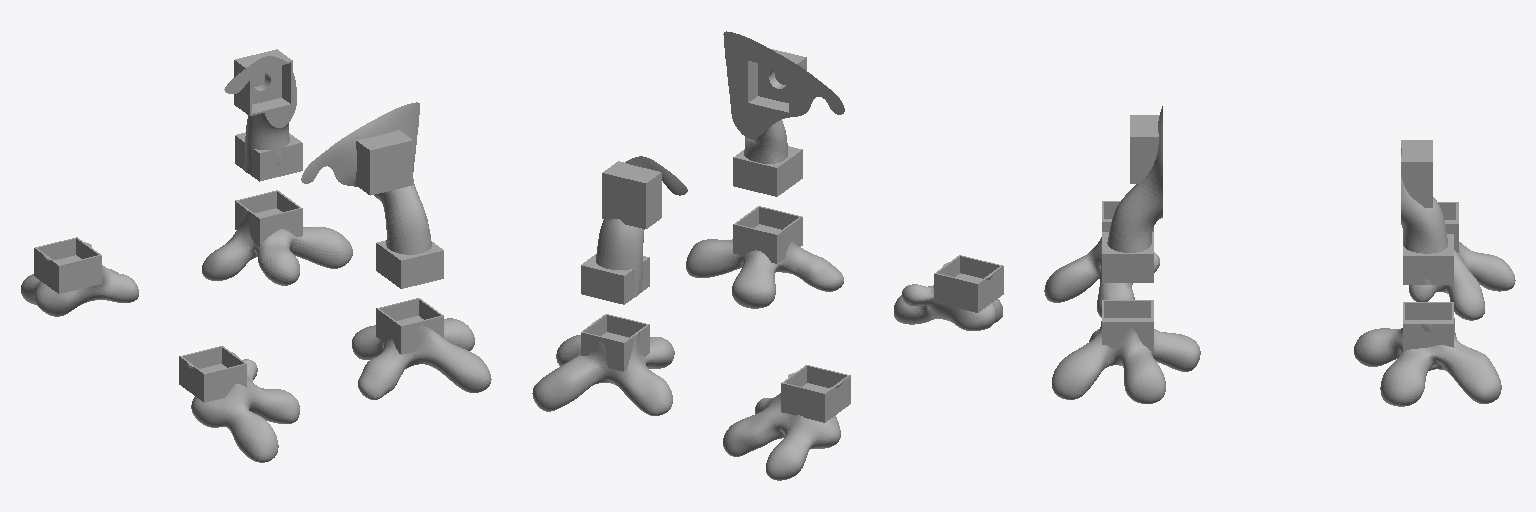
URDF robot description (FrogBot2_top-FrogBot2-z-0_bottom-FrogBot2-z-0):
<?xml version="1.0" ?>
<robot name="FrogBot2_top-FrogBot2-z-0_bottom-FrogBot2-z-0">

<material name="pla_5_percent_infill">
  <color rgba="0.700 0.700 0.700 1.000"/>
</material>

<link name="base_link">
  <inertial>
    <origin xyz="0 0 0" rpy="0 0 0"/>
    <mass value="1.3195545643272064"/>
    <inertia ixx="0.004661128976538509" iyy="0.011084956581942616" izz="0.010434027311362799" ixy="0.00012367021510998182" iyz="8.103854715456007e-05" ixz="-0.0024599087459031867"/>
  </inertial>
  <visual>
    <origin xyz="0 0 0" rpy="0 0 0"/>
    <geometry>
      <mesh filename="simple_meshes/base_link.stl" scale="0.001 0.001 0.001"/>
    </geometry>
    <material name="pla_5_percent_infill"/>
  </visual>
  <collision>
    <origin xyz="0 0 0" rpy="0 0 0"/>
    <geometry>
      <mesh filename="simple_meshes/base_link.stl" scale="0.001 0.001 0.001"/>
    </geometry>
  </collision>
</link>

<link name="body_1_0_1">
  <inertial>
    <origin xyz="-0.053395 -0.09218 -0.023663" rpy="0 0 0"/>
    <mass value="0.04799444423922557"/>
    <inertia ixx="5.2803174145342057e-05" iyy="5.619794103627328e-05" izz="1.676192602884552e-05" ixy="-3.034819435472993e-07" iyz="3.2780100236989845e-06" ixz="6.190608707399671e-06"/>
  </inertial>
  <visual>
    <origin xyz="-0.053395 -0.09218 -0.023663" rpy="0 0 0"/>
    <geometry>
      <mesh filename="simple_meshes/body_1_0_1.stl" scale="0.001 0.001 0.001"/>
    </geometry>
    <material name="pla_5_percent_infill"/>
  </visual>
  <collision>
    <origin xyz="-0.053395 -0.09218 -0.023663" rpy="0 0 0"/>
    <geometry>
      <mesh filename="simple_meshes/body_1_0_1.stl" scale="0.001 0.001 0.001"/>
    </geometry>
  </collision>
</link>

<link name="body_1_1_1">
  <inertial>
    <origin xyz="0.095032 -0.09218 0.005345" rpy="0 0 0"/>
    <mass value="0.08630944673625074"/>
    <inertia ixx="5.514327864541047e-05" iyy="0.00011598762227759589" izz="9.208938151368919e-05" ixy="5.134815311549348e-06" iyz="5.082767921594155e-06" ixz="-3.5080771214462513e-05"/>
  </inertial>
  <visual>
    <origin xyz="0.095032 -0.09218 0.005345" rpy="0 0 0"/>
    <geometry>
      <mesh filename="simple_meshes/body_1_1_1.stl" scale="0.001 0.001 0.001"/>
    </geometry>
    <material name="pla_5_percent_infill"/>
  </visual>
  <collision>
    <origin xyz="0.095032 -0.09218 0.005345" rpy="0 0 0"/>
    <geometry>
      <mesh filename="simple_meshes/body_1_1_1.stl" scale="0.001 0.001 0.001"/>
    </geometry>
  </collision>
</link>

<link name="body_1_2_1">
  <inertial>
    <origin xyz="-0.041549 0.09218 -0.043945" rpy="0 0 0"/>
    <mass value="0.05834434694089081"/>
    <inertia ixx="9.78296082568518e-05" iyy="0.00010293905077679878" izz="2.7162727684615752e-05" ixy="1.5896575636124757e-06" iyz="-1.4489362938955192e-05" ixz="1.502671672497186e-05"/>
  </inertial>
  <visual>
    <origin xyz="-0.041549 0.09218 -0.043945" rpy="0 0 0"/>
    <geometry>
      <mesh filename="simple_meshes/body_1_2_1.stl" scale="0.001 0.001 0.001"/>
    </geometry>
    <material name="pla_5_percent_infill"/>
  </visual>
  <collision>
    <origin xyz="-0.041549 0.09218 -0.043945" rpy="0 0 0"/>
    <geometry>
      <mesh filename="simple_meshes/body_1_2_1.stl" scale="0.001 0.001 0.001"/>
    </geometry>
  </collision>
</link>

<link name="body_1_3_1">
  <inertial>
    <origin xyz="0.087142 0.09218 -0.003397" rpy="0 0 0"/>
    <mass value="0.09057289863102819"/>
    <inertia ixx="5.639692942870848e-05" iyy="0.00011345600790085212" izz="8.959052372041736e-05" ixy="-5.7168572350557376e-06" iyz="-3.666766072718975e-06" ixz="-3.326508076959976e-05"/>
  </inertial>
  <visual>
    <origin xyz="0.087142 0.09218 -0.003397" rpy="0 0 0"/>
    <geometry>
      <mesh filename="simple_meshes/body_1_3_1.stl" scale="0.001 0.001 0.001"/>
    </geometry>
    <material name="pla_5_percent_infill"/>
  </visual>
  <collision>
    <origin xyz="0.087142 0.09218 -0.003397" rpy="0 0 0"/>
    <geometry>
      <mesh filename="simple_meshes/body_1_3_1.stl" scale="0.001 0.001 0.001"/>
    </geometry>
  </collision>
</link>

<link name="body_2_0_1">
  <inertial>
    <origin xyz="-0.065654 -0.138685 0.094558" rpy="0 0 0"/>
    <mass value="0.09527860020332019"/>
    <inertia ixx="0.0001029198834668647" iyy="0.00011442436296553015" izz="0.000186007311677915" ixy="-1.0464852799072096e-05" iyz="5.479148406796475e-06" ixz="3.7826570893231912e-06"/>
  </inertial>
  <visual>
    <origin xyz="-0.065654 -0.138685 0.094558" rpy="0 0 0"/>
    <geometry>
      <mesh filename="simple_meshes/body_2_0_1.stl" scale="0.001 0.001 0.001"/>
    </geometry>
    <material name="pla_5_percent_infill"/>
  </visual>
  <collision>
    <origin xyz="-0.065654 -0.138685 0.094558" rpy="0 0 0"/>
    <geometry>
      <mesh filename="simple_meshes/body_2_0_1.stl" scale="0.001 0.001 0.001"/>
    </geometry>
  </collision>
</link>

<link name="body_2_1_1">
  <inertial>
    <origin xyz="0.15751 -0.142533 0.094558" rpy="0 0 0"/>
    <mass value="0.07748939377067222"/>
    <inertia ixx="5.797035446383075e-05" iyy="7.381370771172499e-05" izz="9.274986450515978e-05" ixy="2.704018428781145e-07" iyz="1.5240521847553149e-05" ixz="8.529957424013726e-06"/>
  </inertial>
  <visual>
    <origin xyz="0.15751 -0.142533 0.094558" rpy="0 0 0"/>
    <geometry>
      <mesh filename="simple_meshes/body_2_1_1.stl" scale="0.001 0.001 0.001"/>
    </geometry>
    <material name="pla_5_percent_infill"/>
  </visual>
  <collision>
    <origin xyz="0.15751 -0.142533 0.094558" rpy="0 0 0"/>
    <geometry>
      <mesh filename="simple_meshes/body_2_1_1.stl" scale="0.001 0.001 0.001"/>
    </geometry>
  </collision>
</link>

<link name="body_2_2_1">
  <inertial>
    <origin xyz="-0.061161 0.144934 0.094558" rpy="0 0 0"/>
    <mass value="0.09306893628445996"/>
    <inertia ixx="0.0001033425156258547" iyy="0.00011173851979767767" izz="0.00018617734012826978" ixy="1.1591404523521591e-05" iyz="-2.7779278013602936e-06" ixz="1.2372819927100685e-06"/>
  </inertial>
  <visual>
    <origin xyz="-0.061161 0.144934 0.094558" rpy="0 0 0"/>
    <geometry>
      <mesh filename="simple_meshes/body_2_2_1.stl" scale="0.001 0.001 0.001"/>
    </geometry>
    <material name="pla_5_percent_infill"/>
  </visual>
  <collision>
    <origin xyz="-0.061161 0.144934 0.094558" rpy="0 0 0"/>
    <geometry>
      <mesh filename="simple_meshes/body_2_2_1.stl" scale="0.001 0.001 0.001"/>
    </geometry>
  </collision>
</link>

<link name="body_2_3_1">
  <inertial>
    <origin xyz="0.160089 0.144768 0.094558" rpy="0 0 0"/>
    <mass value="0.0733493021309565"/>
    <inertia ixx="6.116190391828105e-05" iyy="7.024912828439058e-05" izz="8.791123455897639e-05" ixy="-1.3856900841766658e-06" iyz="-1.7500856212560858e-05" ixz="1.103211598439918e-05"/>
  </inertial>
  <visual>
    <origin xyz="0.160089 0.144768 0.094558" rpy="0 0 0"/>
    <geometry>
      <mesh filename="simple_meshes/body_2_3_1.stl" scale="0.001 0.001 0.001"/>
    </geometry>
    <material name="pla_5_percent_infill"/>
  </visual>
  <collision>
    <origin xyz="0.160089 0.144768 0.094558" rpy="0 0 0"/>
    <geometry>
      <mesh filename="simple_meshes/body_2_3_1.stl" scale="0.001 0.001 0.001"/>
    </geometry>
  </collision>
</link>

<joint name="joint_1_0" type="revolute">
  <origin xyz="0.053395 0.09218 0.023663" rpy="0 0 0"/>
  <parent link="base_link"/>
  <child link="body_1_0_1"/>
  <axis xyz="0.0 1.0 0.0"/>
  <limit upper="1.2" lower="-1.2" effort="3.8" velocity="5.4"/>
</joint>
<transmission name="joint_1_0_tran">
  <type>transmission_interface/SimpleTransmission</type>
  <joint name="joint_1_0">
    <hardwareInterface>PositionJointInterface</hardwareInterface>
  </joint>
  <actuator name="joint_1_0_actr">
    <hardwareInterface>PositionJointInterface</hardwareInterface>
    <mechanicalReduction>1</mechanicalReduction>
  </actuator>
</transmission>

<joint name="joint_1_1" type="revolute">
  <origin xyz="-0.095032 0.09218 -0.005345" rpy="0 0 0"/>
  <parent link="base_link"/>
  <child link="body_1_1_1"/>
  <axis xyz="0.0 1.0 0.0"/>
  <limit upper="1.2" lower="-1.2" effort="3.8" velocity="5.4"/>
</joint>
<transmission name="joint_1_1_tran">
  <type>transmission_interface/SimpleTransmission</type>
  <joint name="joint_1_1">
    <hardwareInterface>PositionJointInterface</hardwareInterface>
  </joint>
  <actuator name="joint_1_1_actr">
    <hardwareInterface>PositionJointInterface</hardwareInterface>
    <mechanicalReduction>1</mechanicalReduction>
  </actuator>
</transmission>

<joint name="joint_1_2" type="revolute">
  <origin xyz="0.041549 -0.09218 0.043945" rpy="0 0 0"/>
  <parent link="base_link"/>
  <child link="body_1_2_1"/>
  <axis xyz="0.0 1.0 0.0"/>
  <limit upper="1.2" lower="-1.2" effort="3.8" velocity="5.4"/>
</joint>
<transmission name="joint_1_2_tran">
  <type>transmission_interface/SimpleTransmission</type>
  <joint name="joint_1_2">
    <hardwareInterface>PositionJointInterface</hardwareInterface>
  </joint>
  <actuator name="joint_1_2_actr">
    <hardwareInterface>PositionJointInterface</hardwareInterface>
    <mechanicalReduction>1</mechanicalReduction>
  </actuator>
</transmission>

<joint name="joint_1_3" type="revolute">
  <origin xyz="-0.087142 -0.09218 0.003397" rpy="0 0 0"/>
  <parent link="base_link"/>
  <child link="body_1_3_1"/>
  <axis xyz="0.0 1.0 0.0"/>
  <limit upper="1.2" lower="-1.2" effort="3.8" velocity="5.4"/>
</joint>
<transmission name="joint_1_3_tran">
  <type>transmission_interface/SimpleTransmission</type>
  <joint name="joint_1_3">
    <hardwareInterface>PositionJointInterface</hardwareInterface>
  </joint>
  <actuator name="joint_1_3_actr">
    <hardwareInterface>PositionJointInterface</hardwareInterface>
    <mechanicalReduction>1</mechanicalReduction>
  </actuator>
</transmission>

<joint name="joint_2_0" type="revolute">
  <origin xyz="0.012259 0.046505 -0.118221" rpy="0 0 0"/>
  <parent link="body_1_0_1"/>
  <child link="body_2_0_1"/>
  <axis xyz="0.0 0.0 1.0"/>
  <limit upper="1.2" lower="-1.2" effort="3.8" velocity="5.4"/>
</joint>
<transmission name="joint_2_0_tran">
  <type>transmission_interface/SimpleTransmission</type>
  <joint name="joint_2_0">
    <hardwareInterface>PositionJointInterface</hardwareInterface>
  </joint>
  <actuator name="joint_2_0_actr">
    <hardwareInterface>PositionJointInterface</hardwareInterface>
    <mechanicalReduction>1</mechanicalReduction>
  </actuator>
</transmission>

<joint name="joint_2_1" type="revolute">
  <origin xyz="-0.062478 0.050353 -0.089213" rpy="0 0 0"/>
  <parent link="body_1_1_1"/>
  <child link="body_2_1_1"/>
  <axis xyz="0.0 0.0 1.0"/>
  <limit upper="1.2" lower="-1.2" effort="3.8" velocity="5.4"/>
</joint>
<transmission name="joint_2_1_tran">
  <type>transmission_interface/SimpleTransmission</type>
  <joint name="joint_2_1">
    <hardwareInterface>PositionJointInterface</hardwareInterface>
  </joint>
  <actuator name="joint_2_1_actr">
    <hardwareInterface>PositionJointInterface</hardwareInterface>
    <mechanicalReduction>1</mechanicalReduction>
  </actuator>
</transmission>

<joint name="joint_2_2" type="revolute">
  <origin xyz="0.019612 -0.052754 -0.138503" rpy="0 0 0"/>
  <parent link="body_1_2_1"/>
  <child link="body_2_2_1"/>
  <axis xyz="0.0 0.0 1.0"/>
  <limit upper="1.2" lower="-1.2" effort="3.8" velocity="5.4"/>
</joint>
<transmission name="joint_2_2_tran">
  <type>transmission_interface/SimpleTransmission</type>
  <joint name="joint_2_2">
    <hardwareInterface>PositionJointInterface</hardwareInterface>
  </joint>
  <actuator name="joint_2_2_actr">
    <hardwareInterface>PositionJointInterface</hardwareInterface>
    <mechanicalReduction>1</mechanicalReduction>
  </actuator>
</transmission>

<joint name="joint_2_3" type="revolute">
  <origin xyz="-0.072947 -0.052588 -0.097955" rpy="0 0 0"/>
  <parent link="body_1_3_1"/>
  <child link="body_2_3_1"/>
  <axis xyz="0.0 0.0 1.0"/>
  <limit upper="1.2" lower="-1.2" effort="3.8" velocity="5.4"/>
</joint>
<transmission name="joint_2_3_tran">
  <type>transmission_interface/SimpleTransmission</type>
  <joint name="joint_2_3">
    <hardwareInterface>PositionJointInterface</hardwareInterface>
  </joint>
  <actuator name="joint_2_3_actr">
    <hardwareInterface>PositionJointInterface</hardwareInterface>
    <mechanicalReduction>1</mechanicalReduction>
  </actuator>
</transmission>

</robot>

--- Render facts (derived) ---
3 views of the same robot in one strip: view 1: azimuth 30°, elevation 25°; view 2: azimuth 150°, elevation 25°; view 3: azimuth 270°, elevation 25° (orthographic).
Robot: FrogBot2_top-FrogBot2-z-0_bottom-FrogBot2-z-0 — 9 links, 8 joints (8 revolute); root link base_link; default pose: all joints at 0.
Visible links, largest first — view 1: body_1_2_1, body_2_2_1, body_2_0_1, body_2_3_1, body_1_0_1, body_2_1_1; view 2: body_1_2_1, body_2_0_1, body_1_0_1, body_2_2_1, body_2_1_1, body_2_3_1; view 3: body_2_0_1, body_2_2_1, body_1_2_1, body_1_0_1, body_2_1_1, body_2_3_1.
Boxes of the visible links, x1,y1,x2,y2 form: body_1_2_1: (301, 102, 443, 288); body_2_2_1: (352, 298, 491, 399); body_2_0_1: (202, 190, 352, 285); body_2_3_1: (179, 346, 299, 462); body_1_0_1: (224, 49, 302, 181); body_2_1_1: (21, 237, 138, 316); body_1_2_1: (723, 31, 844, 196); body_2_0_1: (532, 314, 674, 415); body_1_0_1: (581, 156, 687, 304); body_2_2_1: (686, 206, 843, 308); body_2_1_1: (723, 365, 850, 480); body_2_3_1: (894, 255, 1003, 330); body_2_0_1: (1354, 302, 1501, 406); body_2_2_1: (1052, 300, 1200, 403); body_1_2_1: (1102, 106, 1162, 282); body_1_0_1: (1401, 140, 1453, 284); body_2_1_1: (1409, 202, 1515, 320); body_2_3_1: (1044, 201, 1159, 317).
Bounding box of the posed robot: 0.3301 × 0.4439 × 0.2911 m (x, y, z).
6 mesh visuals loaded from 9 distinct referenced files (6 binary STL); not drawn: 3 (reference not matched to a file when rendering).